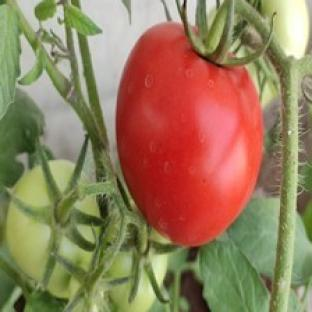Tomato: (116, 23, 263, 246), (6, 202, 52, 281), (108, 268, 155, 311)
